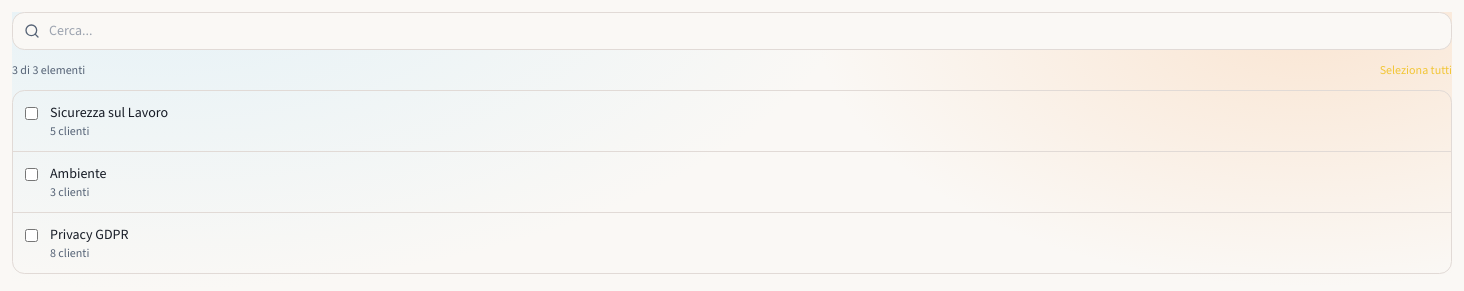
Test case: SearchableCheckboxList › should filter items by search
Type "Sicurezza" into the field with placeholder "Cerca...".
click(732, 31); type("Sicurezza")  # box left=12, top=12, right=1452, bottom=50
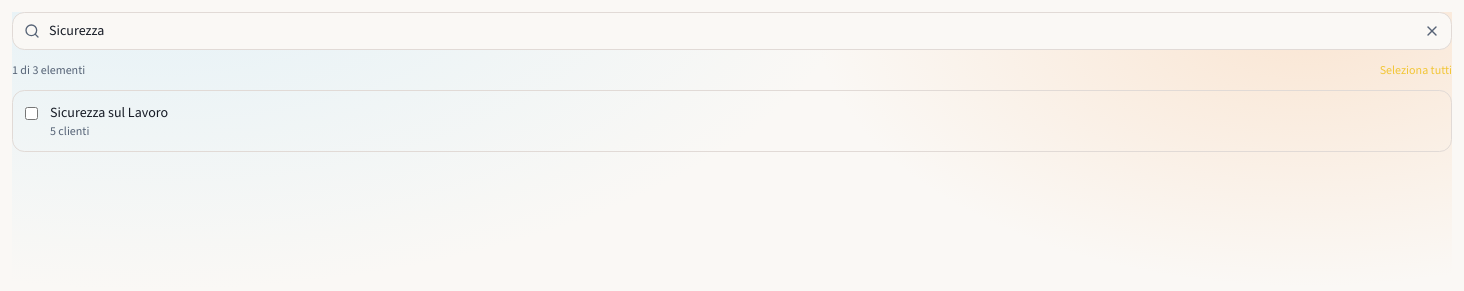
Expected: the text "Sicurezza sul Lavoro" is shown, left=50, top=103, right=168, bottom=122
Expected: the text "Ambiente" is gone
Expected: the text "Privacy GDPR" is gone
